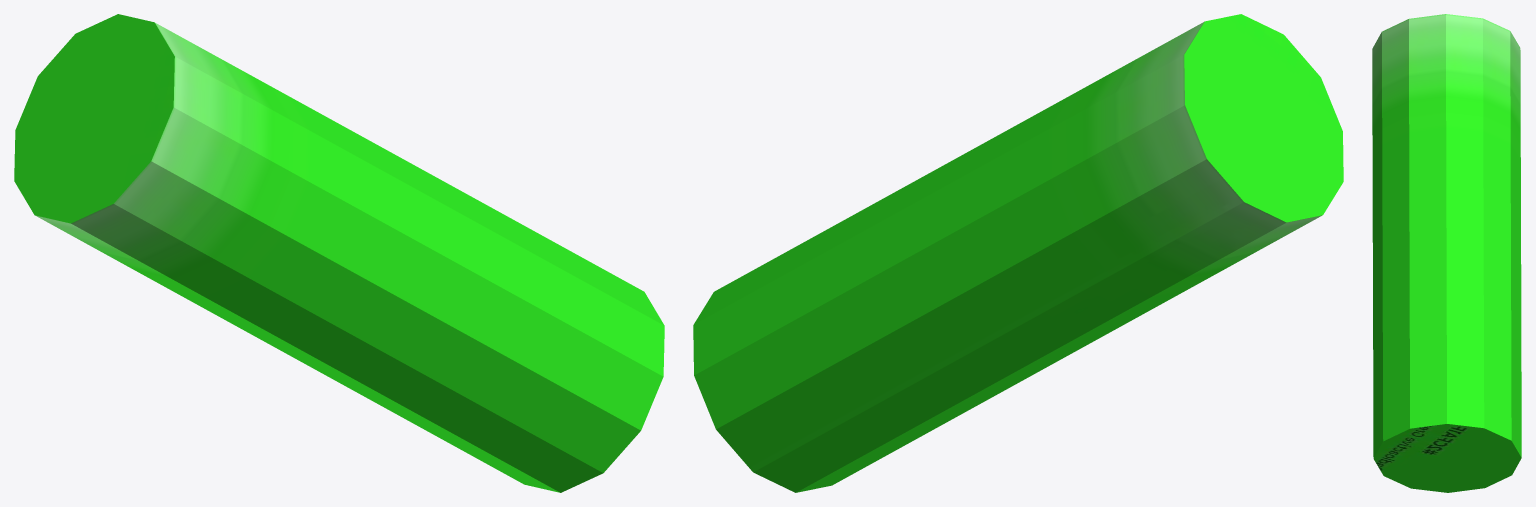
File: Barra1.obj
3 renders of one model, left to right at view 1: azimuth 30°, elevation 25°; view 2: azimuth 150°, elevation 25°; view 3: azimuth 270°, elevation 25°, orthographic. The views are drawn at different scales.
Parts seen in each view (by area): view 1: Cylinder.001; view 2: Cylinder.001; view 3: Cylinder.001.
Part boxes in pixels (bbox=[...]): Cylinder.001: bbox=[14, 14, 664, 492]; Cylinder.001: bbox=[693, 14, 1343, 492]; Cylinder.001: bbox=[1372, 14, 1521, 492].
Size of the model in its own units: 0.1237 by 0.1074 by 0.0403.
